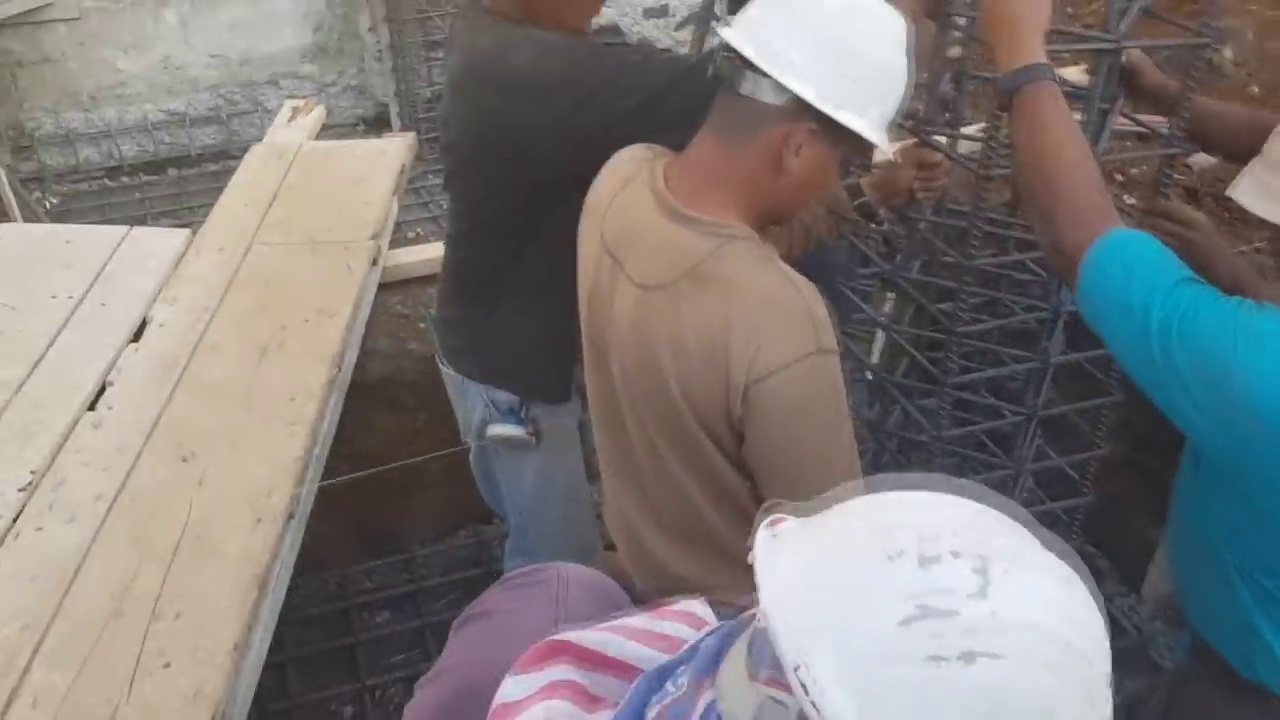helmet: (750, 494, 1135, 720), (697, 2, 915, 160)
helmet-on: (607, 485, 1137, 714), (658, 0, 918, 239)
person: (992, 0, 1280, 720), (582, 0, 924, 598), (379, 477, 1137, 720), (423, 6, 723, 571)
